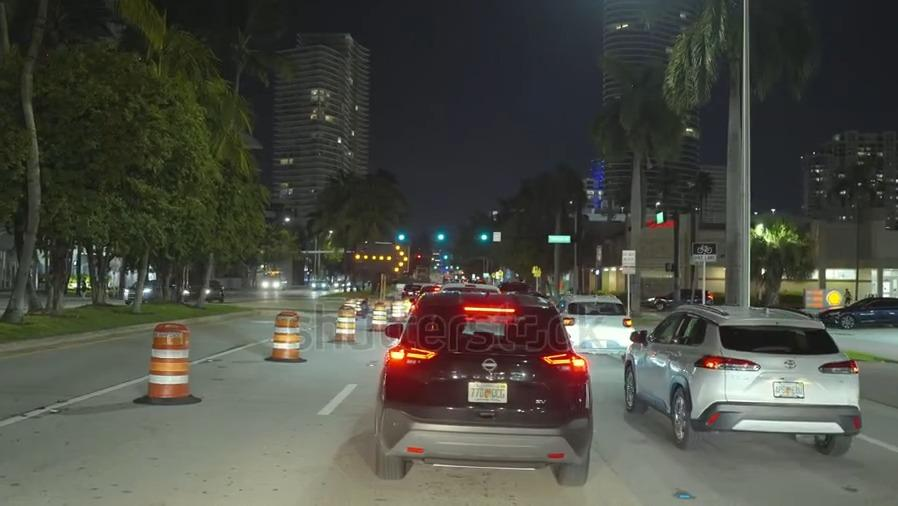arrow traffic sign: (350, 242, 411, 275)
car: (376, 291, 590, 479), (625, 304, 856, 463), (556, 287, 635, 355), (829, 291, 898, 332), (637, 282, 716, 311), (117, 275, 177, 307), (178, 277, 226, 305), (261, 273, 287, 292), (308, 275, 331, 295)
cone: (147, 316, 190, 403), (269, 307, 304, 363), (333, 299, 355, 347), (369, 299, 385, 336), (387, 293, 405, 325)
traffic light: (389, 225, 408, 251), (432, 228, 449, 249), (477, 229, 491, 247)
wheel: (662, 382, 695, 449), (611, 356, 639, 418)
